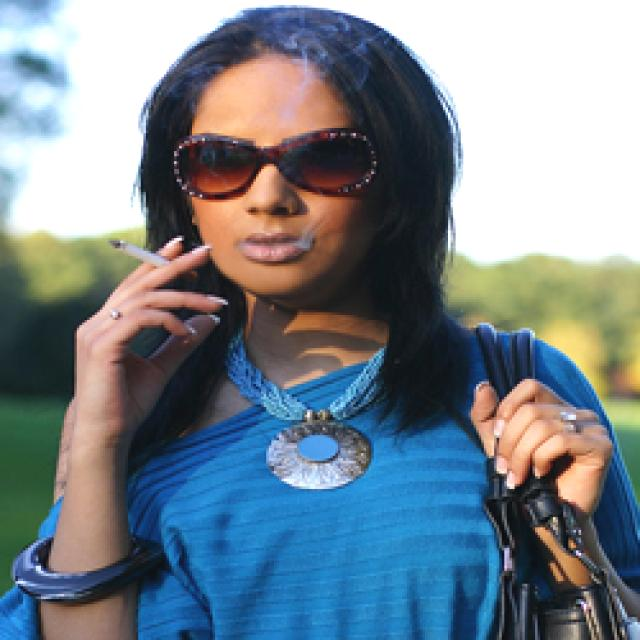Smooking: (107, 236, 169, 270)
